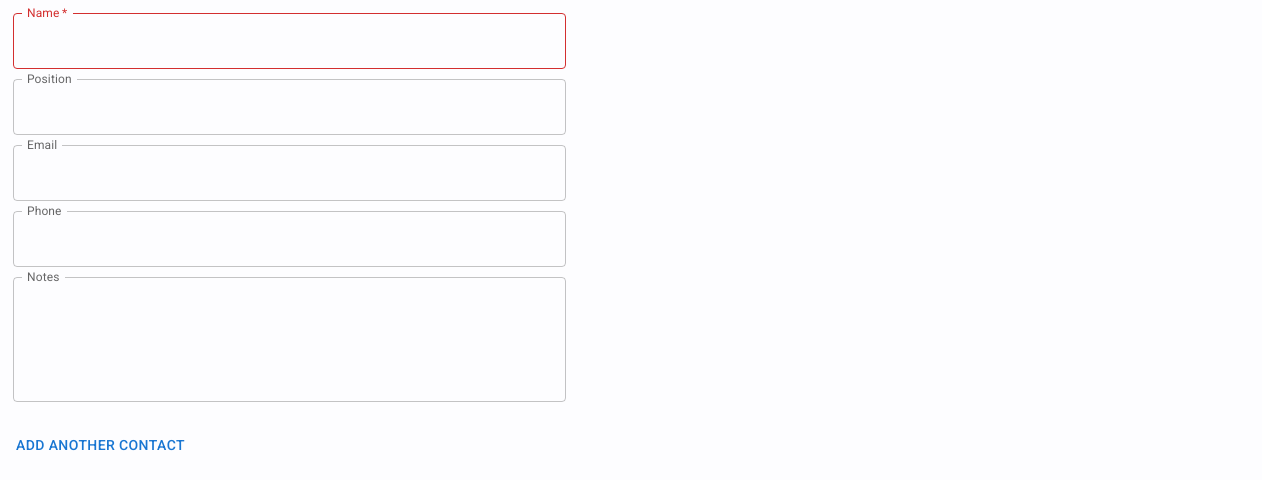
Test: ContactsTab › shows a Delete button on every contact after the first
Click the button "add another contact".
click(100, 445)  # box [8,427,193,464]
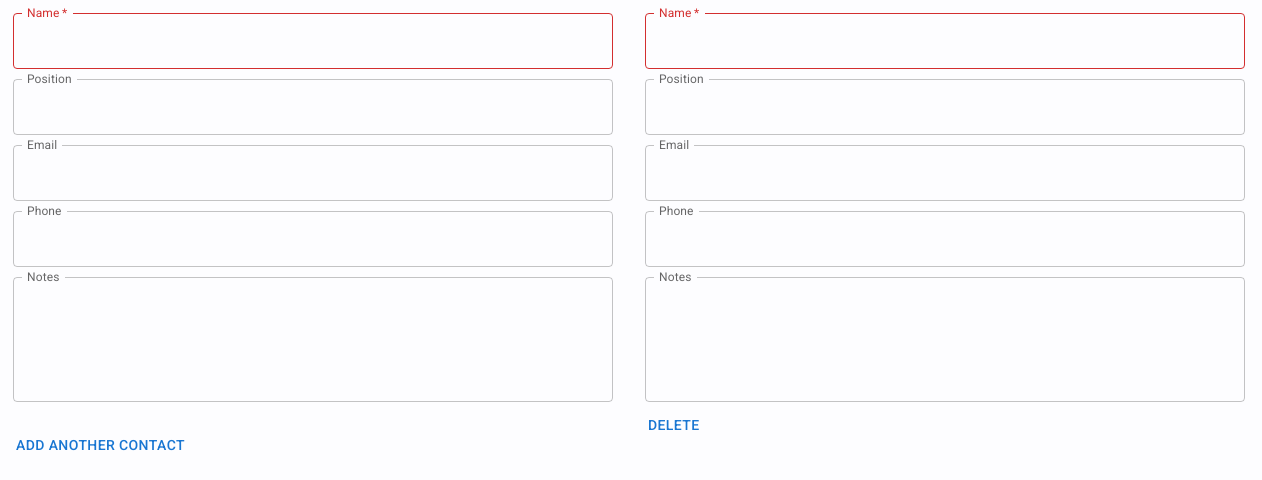
Expected: the number of buttons "Delete" is 1, [640,407,708,444]
